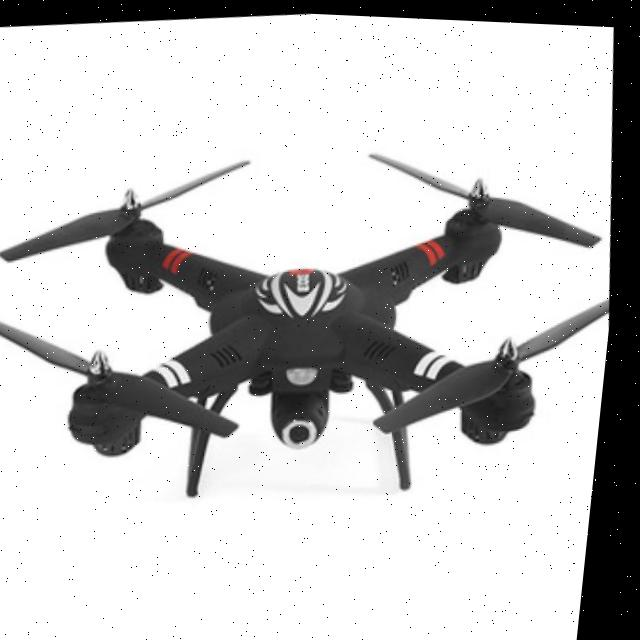drones: (0, 92, 632, 557)
